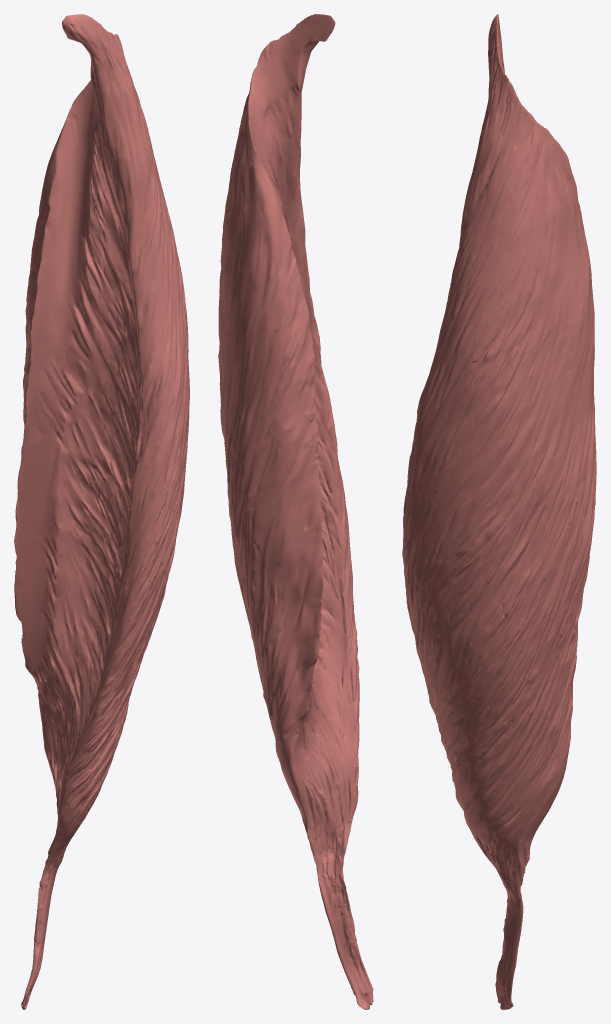
Rendered from fma38931-fj1442m.glb.
The picture shows the model from 3 angles, left to right: view 1: azimuth 30°, elevation 25°; view 2: azimuth 150°, elevation 25°; view 3: azimuth 270°, elevation 25°; orthographic projection. The views are drawn at different scales.
Parts seen in each view (by area): view 1: FMA38931_FJ1442M; view 2: FMA38931_FJ1442M; view 3: FMA38931_FJ1442M.
Part boxes in pixels (left/top/right/bottom): FMA38931_FJ1442M: left=14, top=14, right=189, bottom=1009; FMA38931_FJ1442M: left=218, top=14, right=373, bottom=1009; FMA38931_FJ1442M: left=402, top=14, right=596, bottom=1009.
Bounding box in the file's own units: 0.0717 × 0.4427 × 0.0768.
